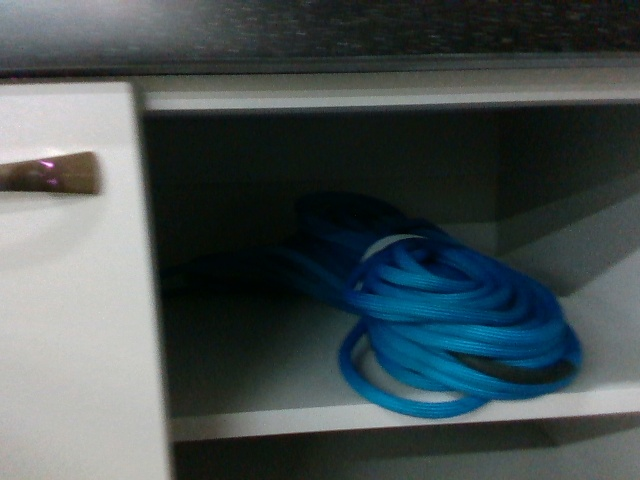rope: (340, 223, 586, 411)
